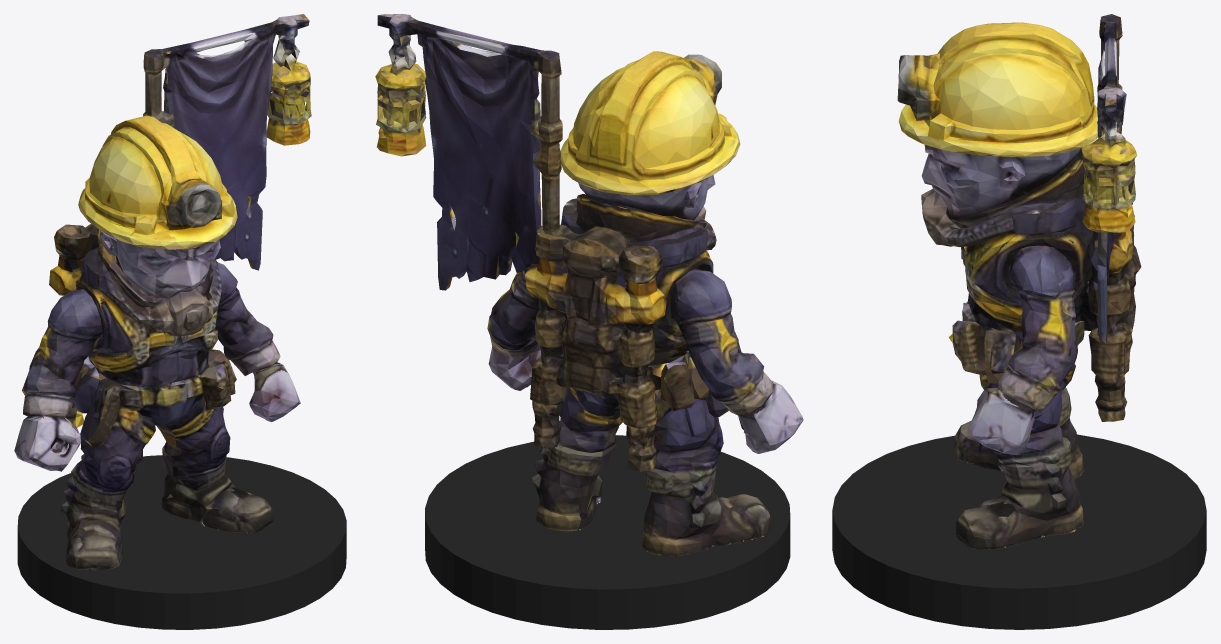
The model's file is wb-neophyte-icon-bearer.glb.
3 views of the same model, side by side, from view 1: azimuth 30°, elevation 25°; view 2: azimuth 150°, elevation 25°; view 3: azimuth 270°, elevation 25° (orthographic). The views are drawn at different scales.
Visible parts, largest first — view 1: figure, base; view 2: figure, base; view 3: figure, base.
Part boxes in pixels (x1=…): figure: x1=14, y1=14, x2=311, y2=570; base: x1=17, y1=455, x2=346, y2=629; figure: x1=375, y1=14, x2=803, y2=556; base: x1=425, y1=435, x2=790, y2=629; figure: x1=897, y1=14, x2=1141, y2=549; base: x1=832, y1=434, x2=1206, y2=629.
Size of the model in its own units: 1.14 by 1.57 by 0.9843.
Materials: 2 (1 with a texture image).
